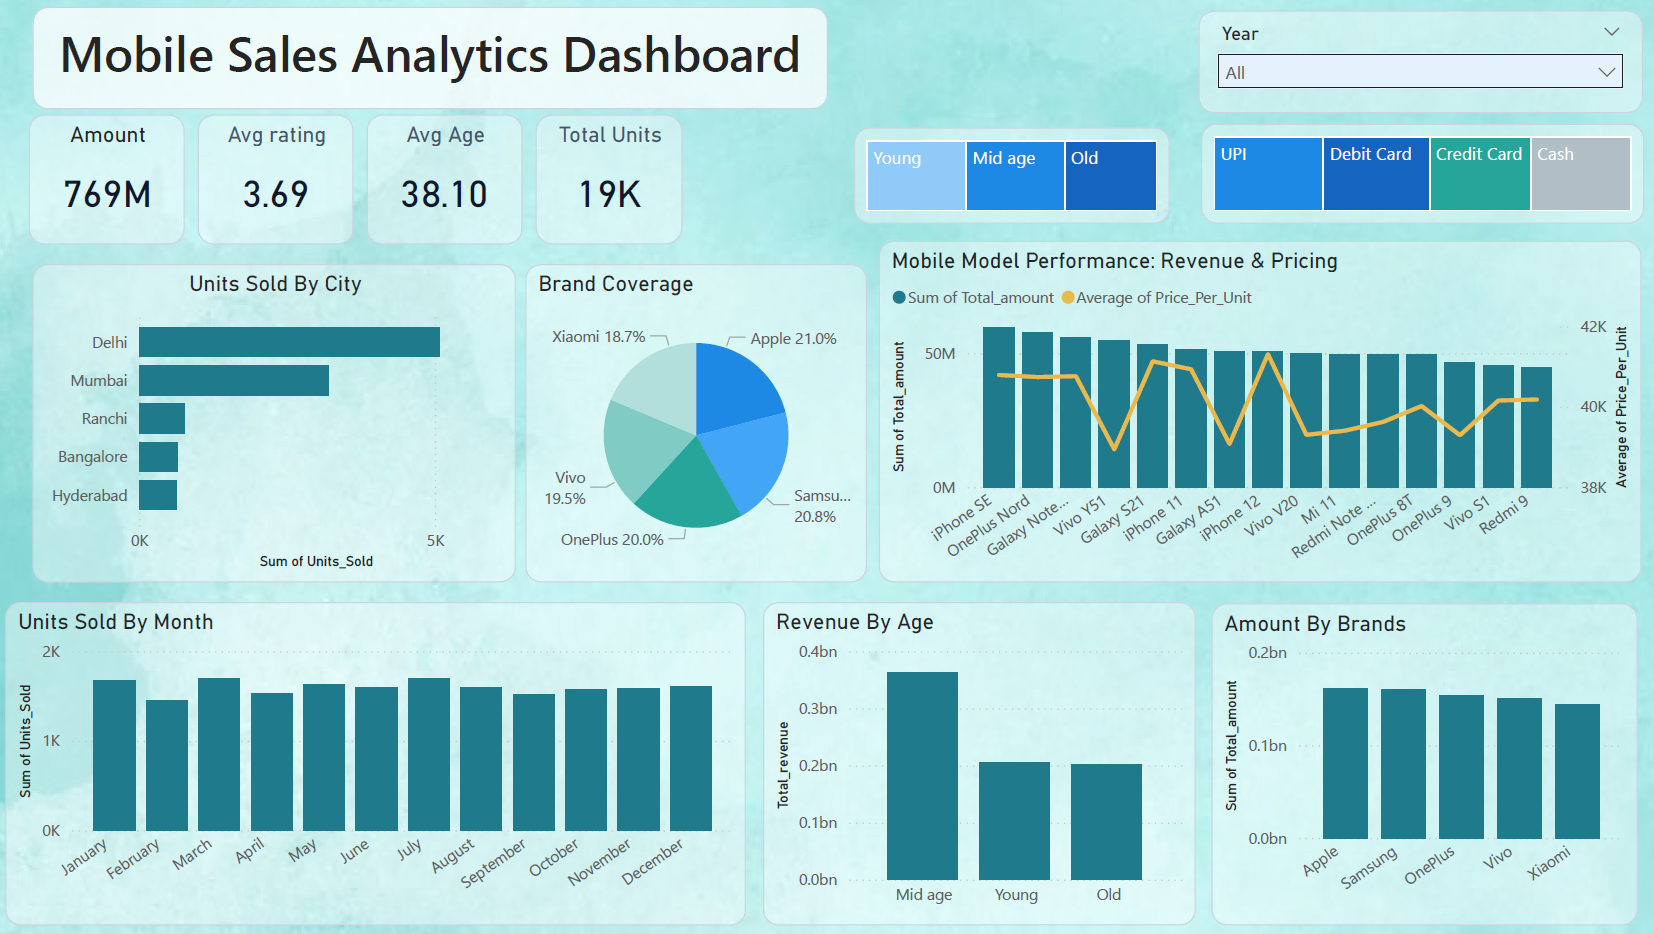

This screenshot's page, from the dashboard's own definition file:
{"tool":"powerbi","page":{"name":"Page 1","canvas":[1280,720],"ordinal":0},"visuals":[{"type":"textbox","box":[27.9,4.9,611.8,78.7],"z":0},{"type":"card","title":"Amount","fields":{"Values":["Sum(mobile_sales mobile_data.Total_amount)"]},"box":[25,88.3,120,100],"z":1000},{"type":"card","title":"Avg rating","fields":{"Values":["Avg(mobile_sales mobile_data.Customer_Ratings)"]},"box":[155,88.3,120,100],"z":2000},{"type":"clusteredBarChart","title":"Units Sold By City","fields":{"Category":["mobile_sales mobile_data.City"],"Y":["Sum(mobile_sales mobile_data.Units_Sold)"]},"box":[28.3,203.3,371.7,245],"z":3000},{"type":"card","title":"Avg Age","fields":{"Values":["Avg(mobile_sales customer_data.Customer_Age)"]},"box":[285,88.3,120,100],"z":4000},{"type":"card","title":"Total Units","fields":{"Values":["Sum(mobile_sales mobile_data.Units_Sold)"]},"box":[414.9,87.8,113.6,99.9],"z":5000},{"type":"columnChart","title":"Amount By Brands","fields":{"Y":["Sum(mobile_sales mobile_data.Total_amount)"],"Category":["mobile_sales mobile_data.Brand"]},"box":[935,463.9,328.3,248.3],"z":6000},{"type":"columnChart","title":"Units Sold By Month","fields":{"Y":["Sum(mobile_sales mobile_data.Units_Sold)"],"Category":["mobile_sales mobile_data.date_of_sale.Variation.Date Hierarchy.Month"]},"box":[6.7,463.3,570,248.3],"z":7000},{"type":"treemap","fields":{"Group":["mobile_sales mobile_data.Payment_Method"],"Values":["Sum(mobile_sales mobile_data.Total_amount)"]},"box":[926.7,95,341.7,76.7],"z":8000},{"type":"lineStackedColumnComboChart","title":"Mobile Model Performance: Revenue & Pricing","fields":{"Category":["mobile_sales mobile_data.Mobile_Model"],"Y":["Sum(mobile_sales mobile_data.Total_amount)"],"Y2":["Avg(mobile_sales mobile_data.Price_Per_Unit)"]},"box":[679.1,185.4,587.2,262.5],"z":9000},{"type":"slicer","fields":{"Values":["mobile_sales mobile_data.Year"]},"box":[925,8.3,341.7,78.3],"z":10000},{"type":"treemap","fields":{"Group":["mobile_sales customer_data.age_group"],"Values":["Sum(mobile_sales mobile_data.Units_Sold)"]},"box":[660,98.3,243.3,73.3],"z":11000},{"type":"clusteredColumnChart","title":"Revenue By Age","fields":{"Category":["mobile_sales customer_data.age_group"],"Y":["mobile_sales mobile_data.Total_revenue"]},"box":[590,463.3,333.3,248.3],"z":12000},{"type":"pieChart","title":"Brand Coverage","fields":{"Category":["mobile_sales mobile_data.Brand"],"Y":["mobile_sales mobile_data.Total_revenue"]},"box":[407.3,202.9,263,245.3],"z":13000}]}

Visuals, with their boxes in screenshot pixels (x1, y1, x2, y2), scaled from the page's 1280x720 canvas onto the 1654x934 screenshot:
textbox: select_region(36, 6, 827, 108)
"Amount" card: select_region(32, 115, 187, 244)
"Avg rating" card: select_region(200, 115, 355, 244)
"Units Sold By City" clusteredBarChart: select_region(37, 264, 517, 582)
"Avg Age" card: select_region(368, 115, 523, 244)
"Total Units" card: select_region(536, 114, 683, 243)
"Amount By Brands" columnChart: select_region(1208, 602, 1632, 924)
"Units Sold By Month" columnChart: select_region(9, 601, 745, 923)
treemap - mobile_sales mobile_data.Payment_Method x Sum(mobile_sales mobile_data.Total_amount): select_region(1197, 123, 1639, 223)
"Mobile Model Performance: Revenue & Pricing" lineStackedColumnComboChart: select_region(878, 241, 1636, 581)
slicer - mobile_sales mobile_data.Year: select_region(1195, 11, 1637, 112)
treemap - mobile_sales customer_data.age_group x Sum(mobile_sales mobile_data.Units_Sold): select_region(853, 128, 1167, 223)
"Revenue By Age" clusteredColumnChart: select_region(762, 601, 1193, 923)
"Brand Coverage" pieChart: select_region(526, 263, 866, 581)
